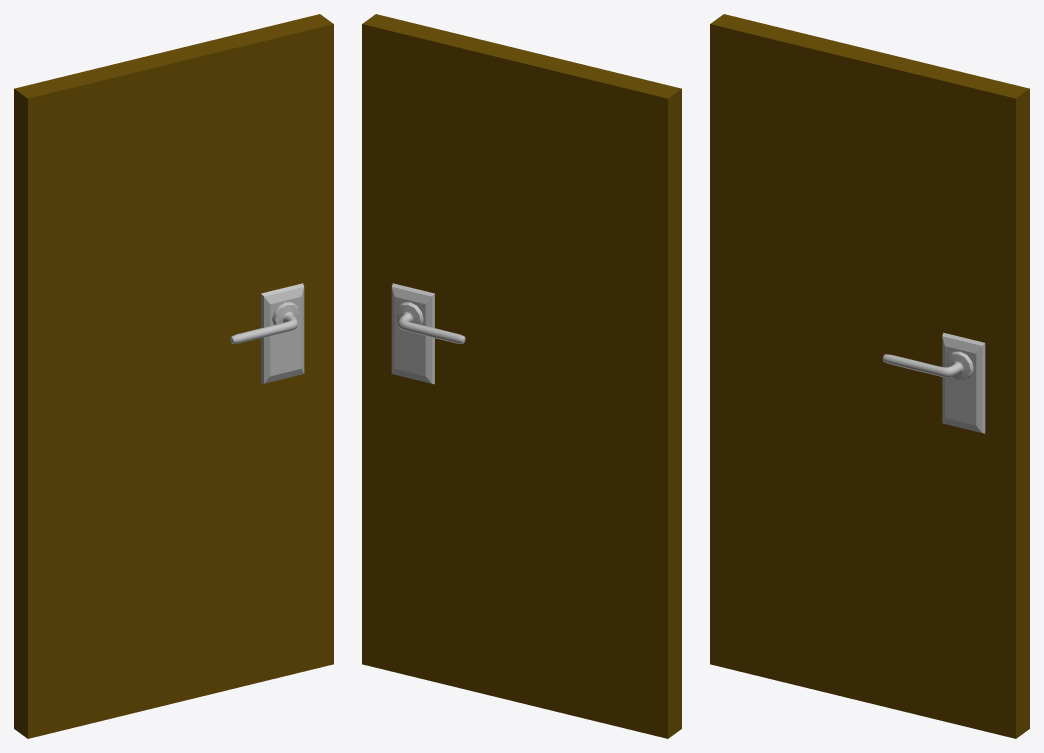
The model's file is max_door_uv.fbx.
3 views of the same model, side by side, from view 1: azimuth 30°, elevation 25°; view 2: azimuth 150°, elevation 25°; view 3: azimuth 330°, elevation 25° (orthographic).
Parts seen in each view (by area): view 1: Door_UV; view 2: Door_UV; view 3: Door_UV.
Part boxes in pixels (left/top/right/bottom): Door_UV: left=14, top=14, right=333, bottom=738; Door_UV: left=362, top=14, right=681, bottom=738; Door_UV: left=710, top=14, right=1029, bottom=738.
Bounding box in the file's own units: 1 × 2 × 0.2748.
